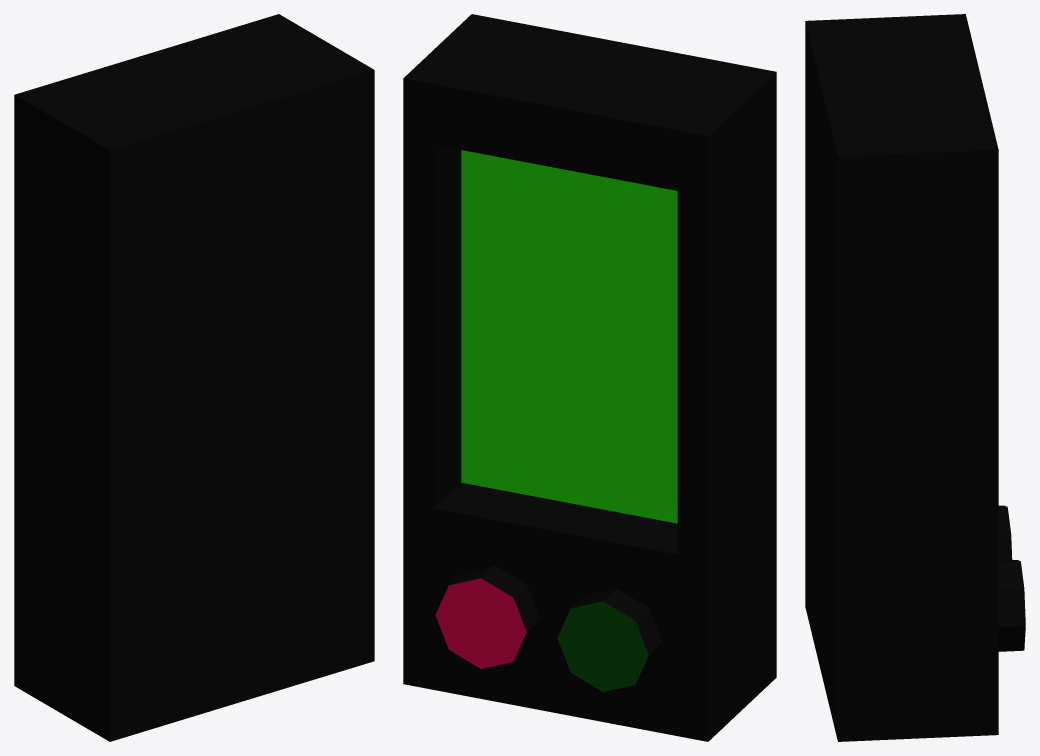
File: dooracces.glb
3 renders of one model, left to right at view 1: azimuth 30°, elevation 25°; view 2: azimuth 150°, elevation 25°; view 3: azimuth 270°, elevation 25°, orthographic. The views are drawn at different scales.
Visible parts, largest first — view 1: dooracces; view 2: dooracces; view 3: dooracces.
Boxes of the visible parts, bbox=[...] form: dooracces: bbox=[14, 14, 374, 741]; dooracces: bbox=[403, 14, 776, 741]; dooracces: bbox=[805, 14, 1025, 741].
Size of the model in its own units: 1.05 by 2 by 0.6833.
